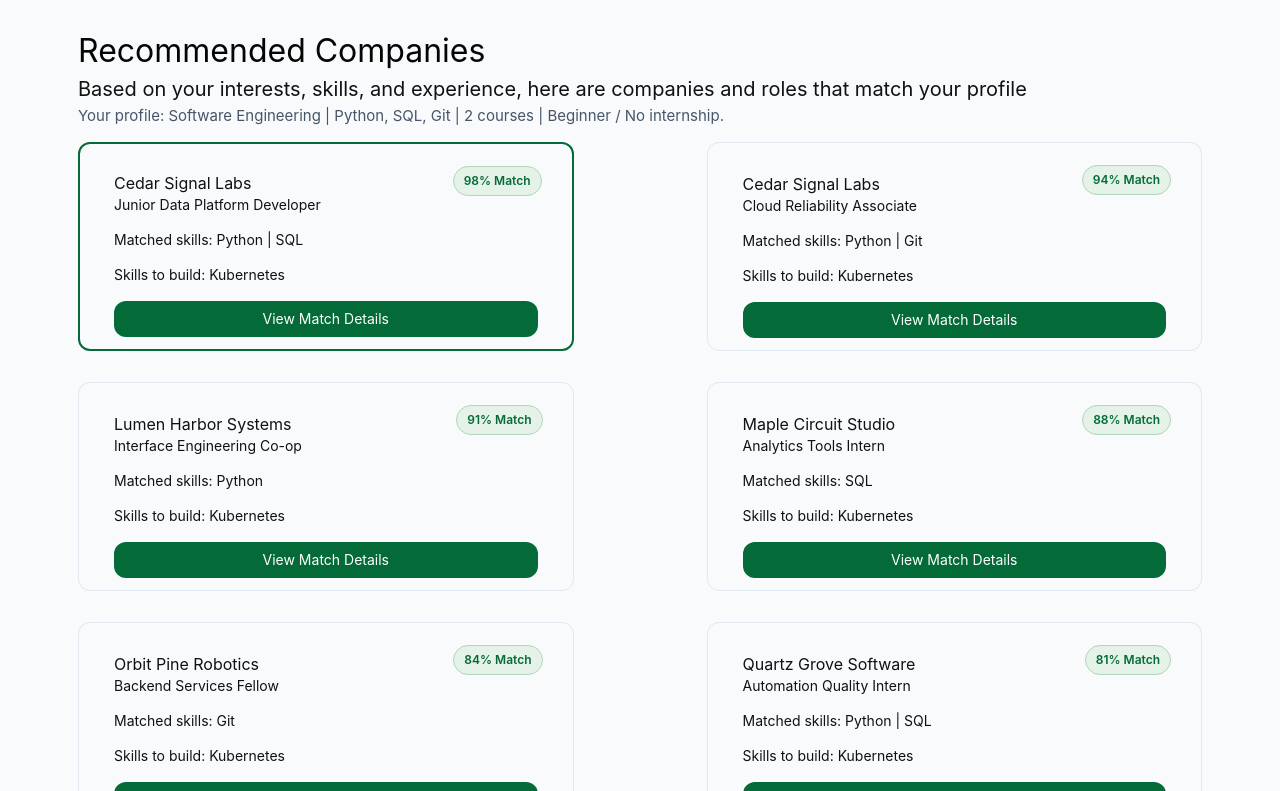
Scenario: Recommendations › navigates to the selected company and exact role
Expected: the heading "Recommended Companies" is shown, [78, 31, 485, 70]
Click the link named "View Match Details for Cedar Signal Labs — Cloud Reliability Associate": (954, 320) [742, 302, 1166, 338]
(page scrolled)
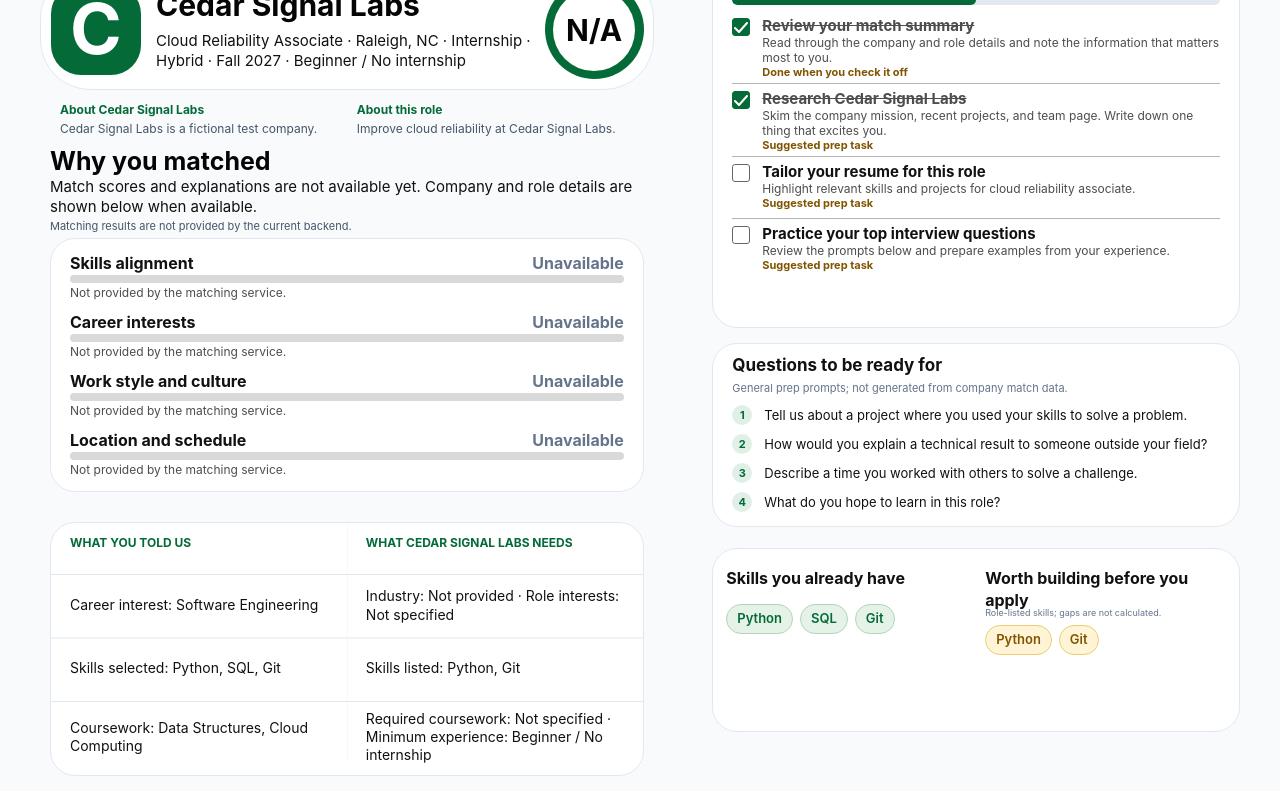
Now the text "Cloud Reliability Associate · Raleigh, NC · Internship · Hybrid · Fall 2027 · Beginner / No internship" is shown, box [156, 31, 531, 70]
Now the text "Improve cloud reliability at Cedar Signal Labs." is shown, box [357, 121, 634, 138]
Now the text "Skills selected: Python, SQL, Git" is shown, box [51, 637, 347, 700]
